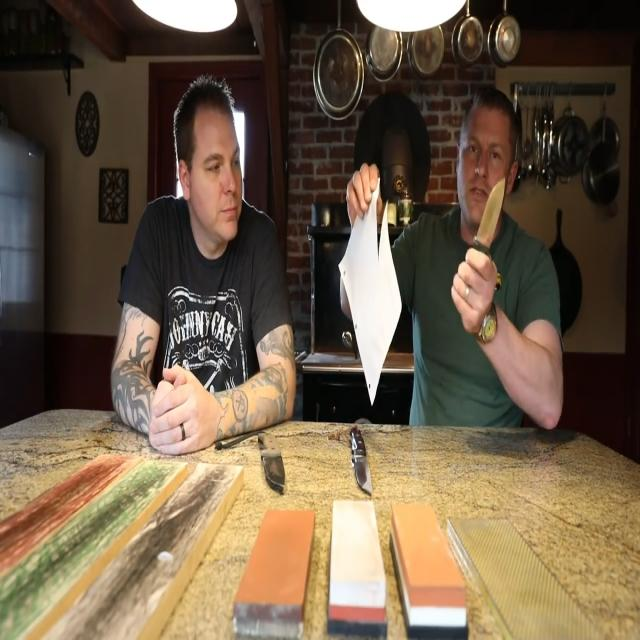knife: (473, 180, 511, 253), (255, 430, 290, 504), (344, 423, 376, 498)
